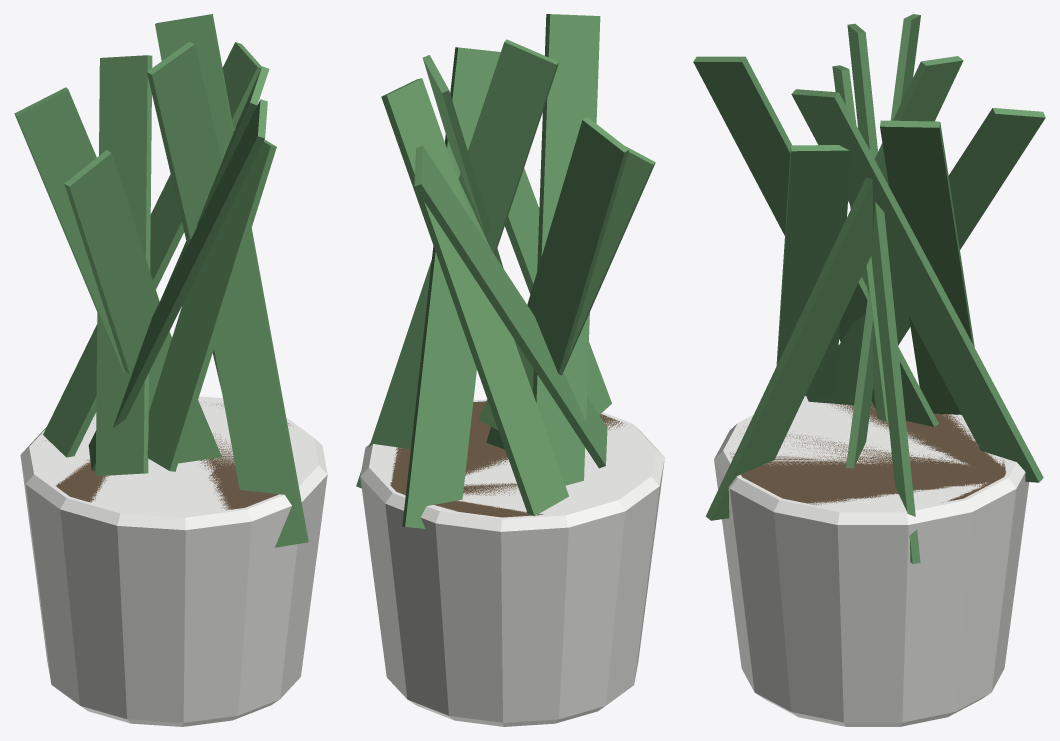
Rendered from plant.fbx.
3 renders of one model, left to right at view 1: azimuth 30°, elevation 25°; view 2: azimuth 150°, elevation 25°; view 3: azimuth 270°, elevation 25°, orthographic. The views are drawn at different scales.
Visible parts, largest first — view 1: Plant; view 2: Plant; view 3: Plant.
Boxes of the visible parts, left/top/right/bottom form: Plant: left=14, top=14, right=327, bottom=726; Plant: left=356, top=14, right=664, bottom=726; Plant: left=693, top=14, right=1045, bottom=726.
Size of the model in its own units: 0.3229 by 0.7171 by 0.3519.
